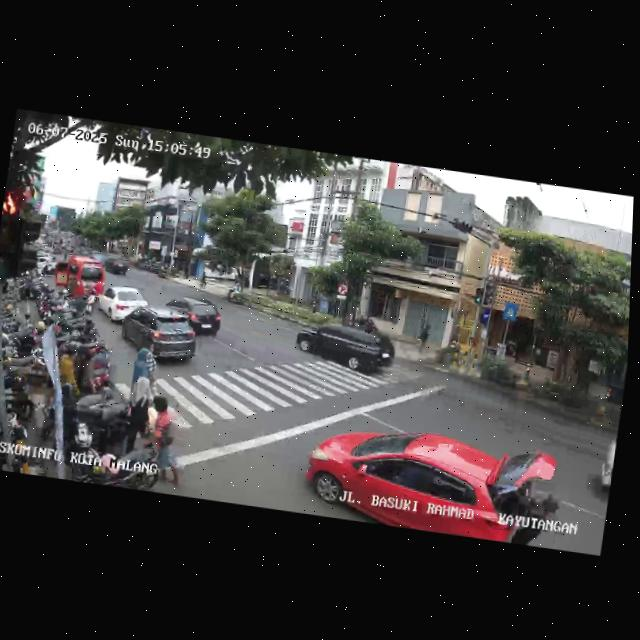car: (299, 415, 538, 545), (296, 316, 396, 381), (117, 301, 202, 368), (159, 292, 225, 337), (49, 252, 106, 303), (581, 432, 617, 506), (95, 282, 149, 327), (105, 253, 131, 277)
motorcycle: (225, 281, 247, 305)
person: (140, 392, 193, 489), (123, 374, 160, 455), (126, 339, 157, 407)
